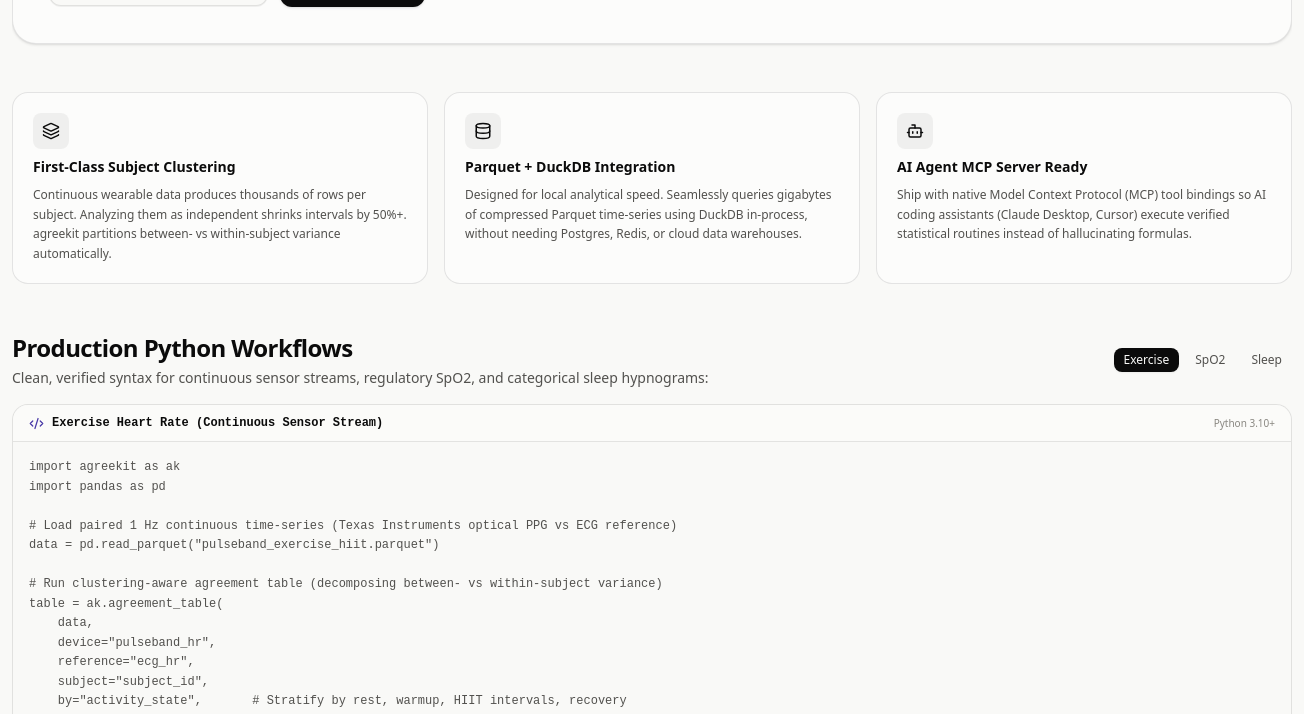
Scenario: AgreekitLandingPage › switches between code example tabs
(page scrolled)
What coordinates should you click on to do the following:
click the button "SpO2"
I would click on:
 (1210, 360)
Its box is [1185,348,1235,372].
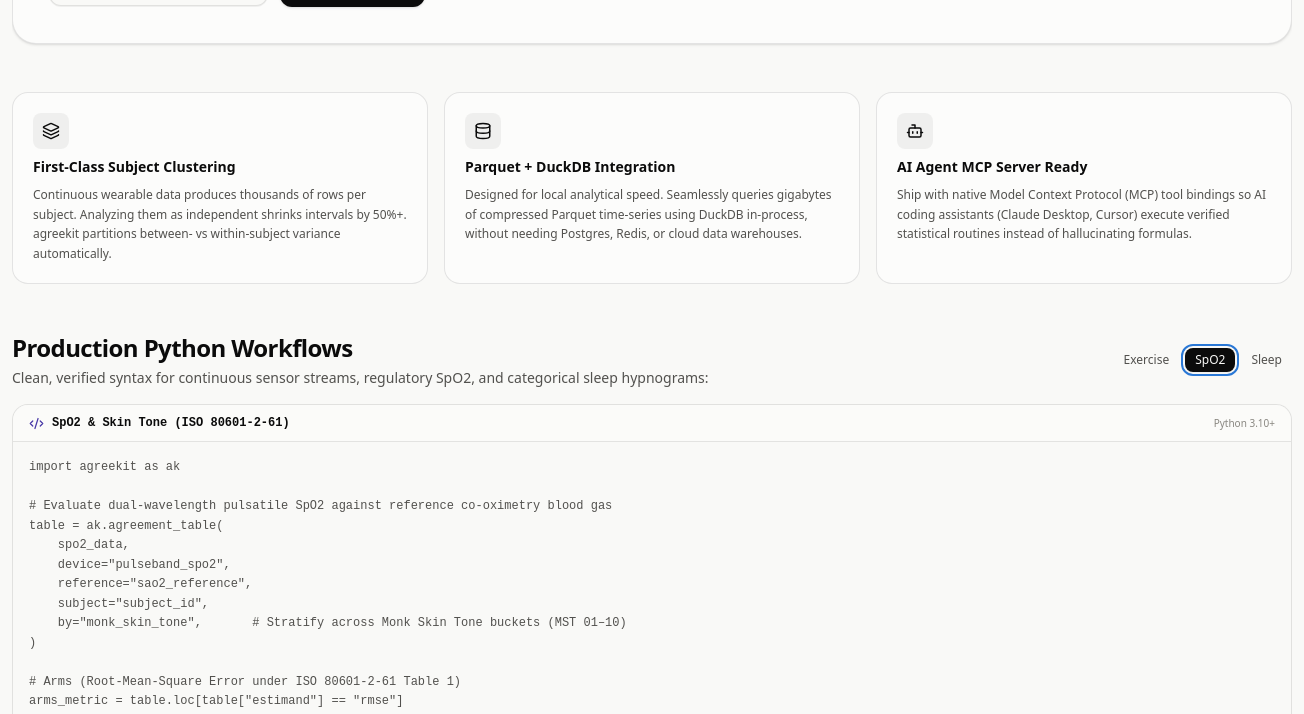
Expected: the text "SpO2 & Skin Tone (ISO 80601-2-61)" is shown, [52,415,290,431]
